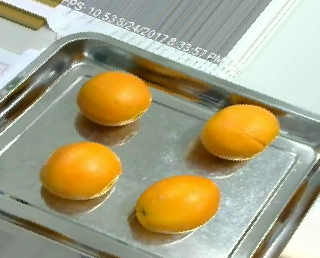Orange: (135, 175, 221, 234), (39, 141, 123, 201), (200, 104, 281, 159), (76, 70, 151, 126)
